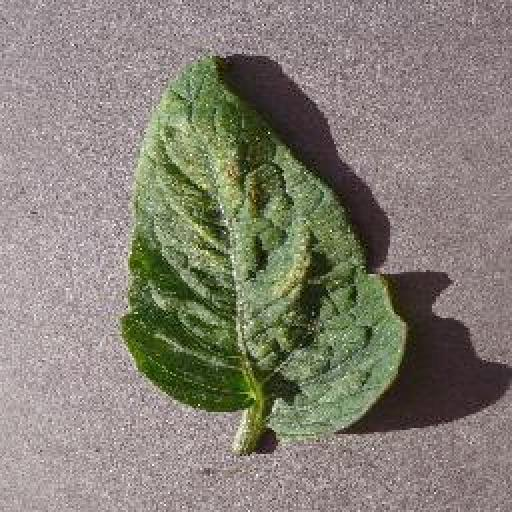disease_tomato: (122, 52, 408, 440)
